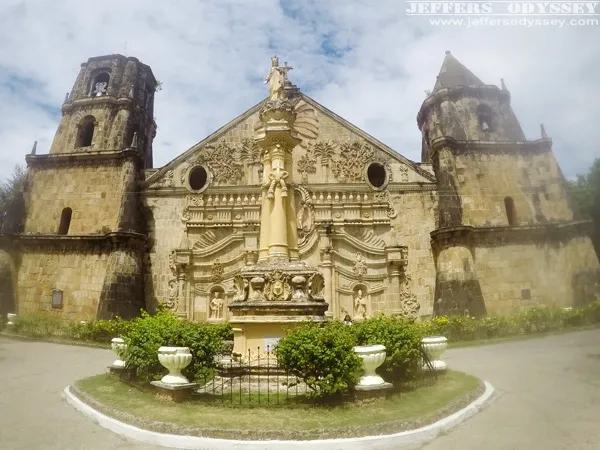miagao_church_miagao_iloilo: (1, 34, 600, 335)
